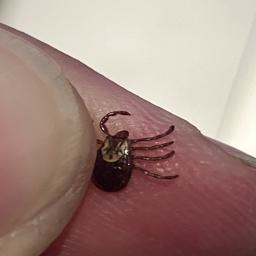Dermacentor variabilis: (88, 111, 177, 192)
